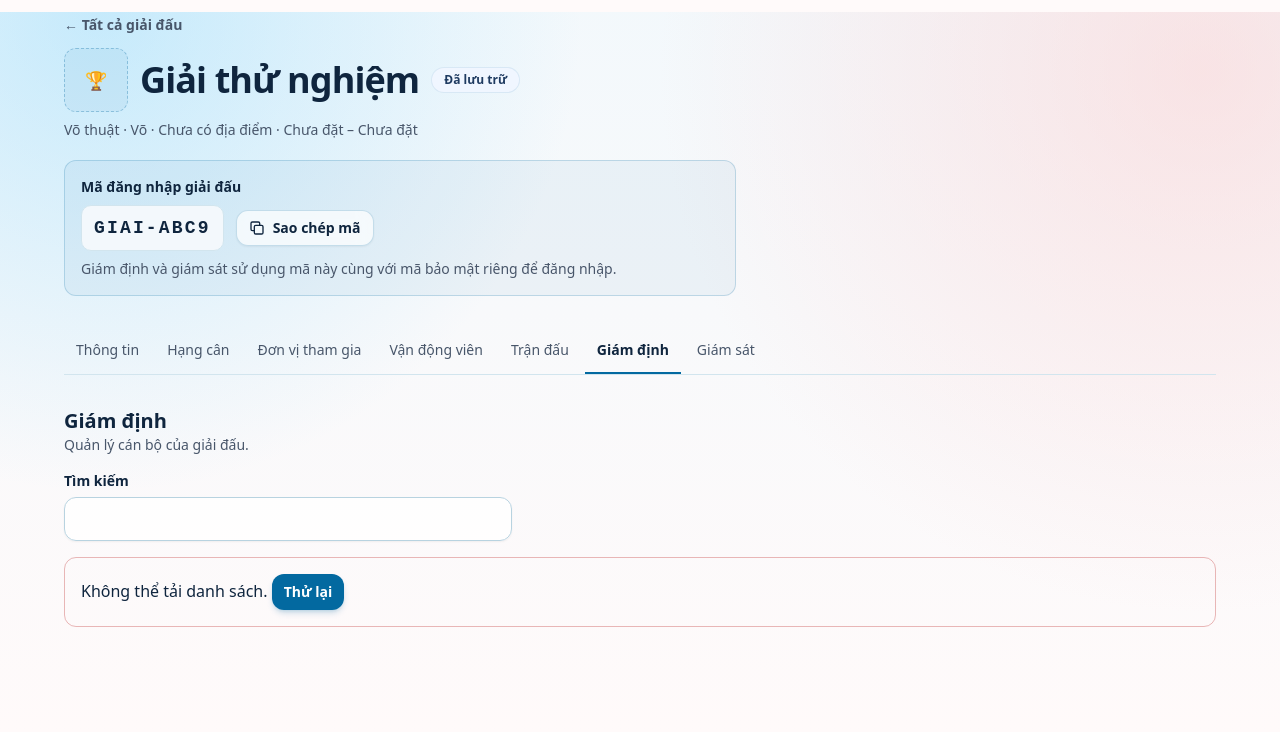
it: AdminTournamentDetailPage tournament login code › shows and copies the exact public code in a read-only archived tournament
Expected: the text "GIAI-ABC9" is shown, [81,205,224,251]
What coordinates should you click on to do the following:
click the button with aria-label "Sao chép mã đăng nhập giải đấu"
I would click on:
 (305, 228)
Its box is [236,210,374,246].
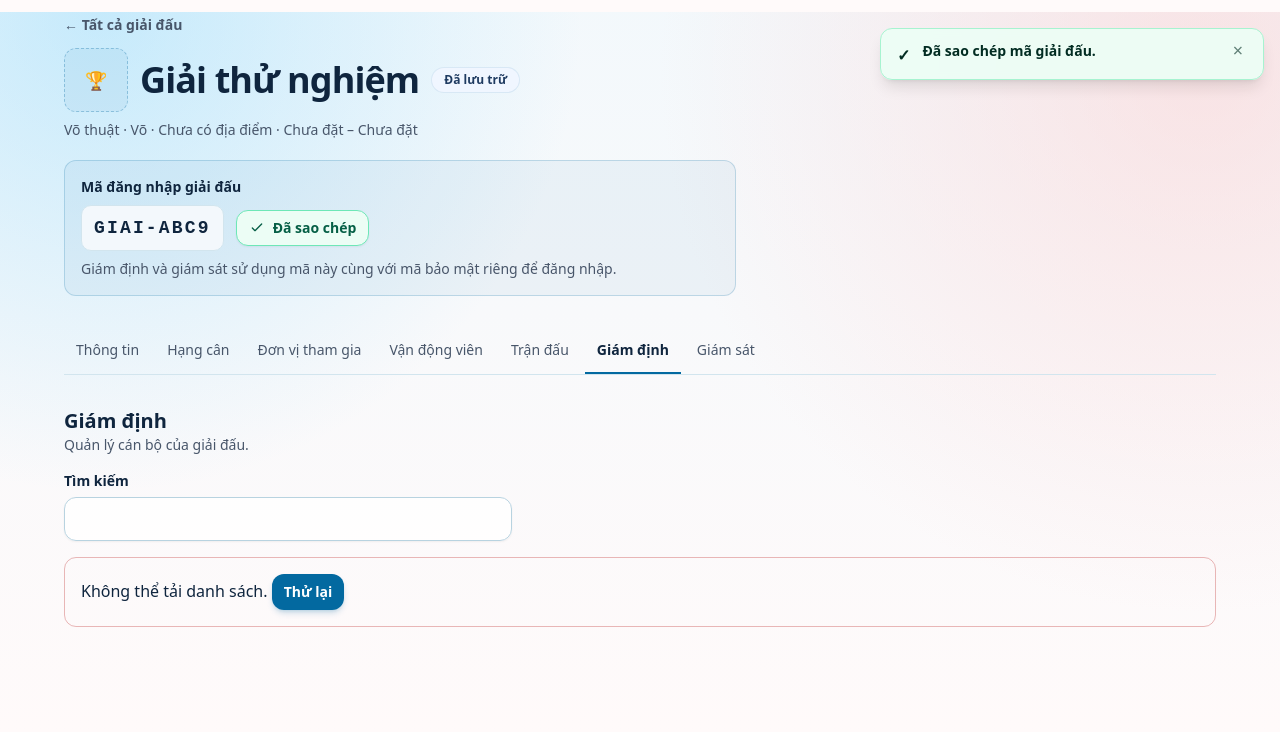
Expected: the text "Đã sao chép mã giải đấu." is shown, [922,41,1096,60]
